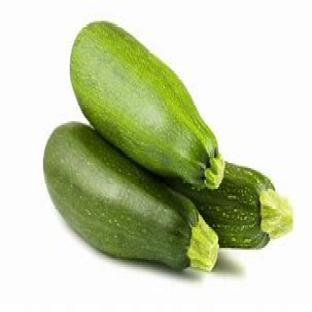Zucchini: (45, 124, 218, 270), (71, 23, 224, 188), (167, 163, 292, 247)
